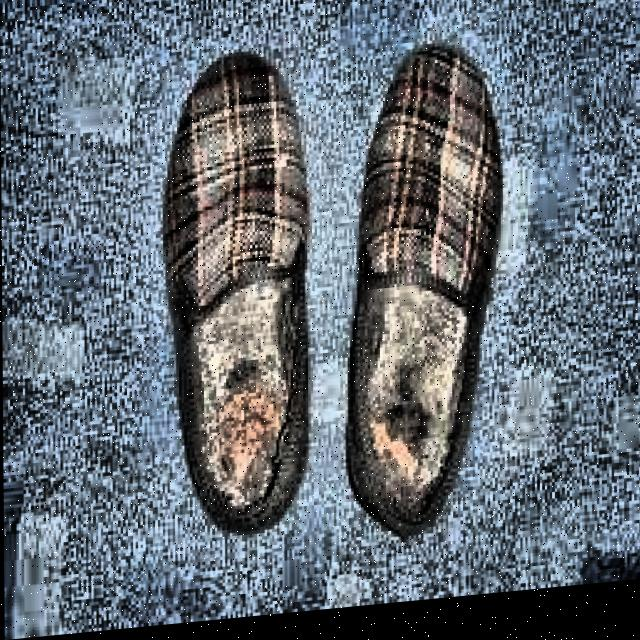shoes: (154, 33, 507, 557)
